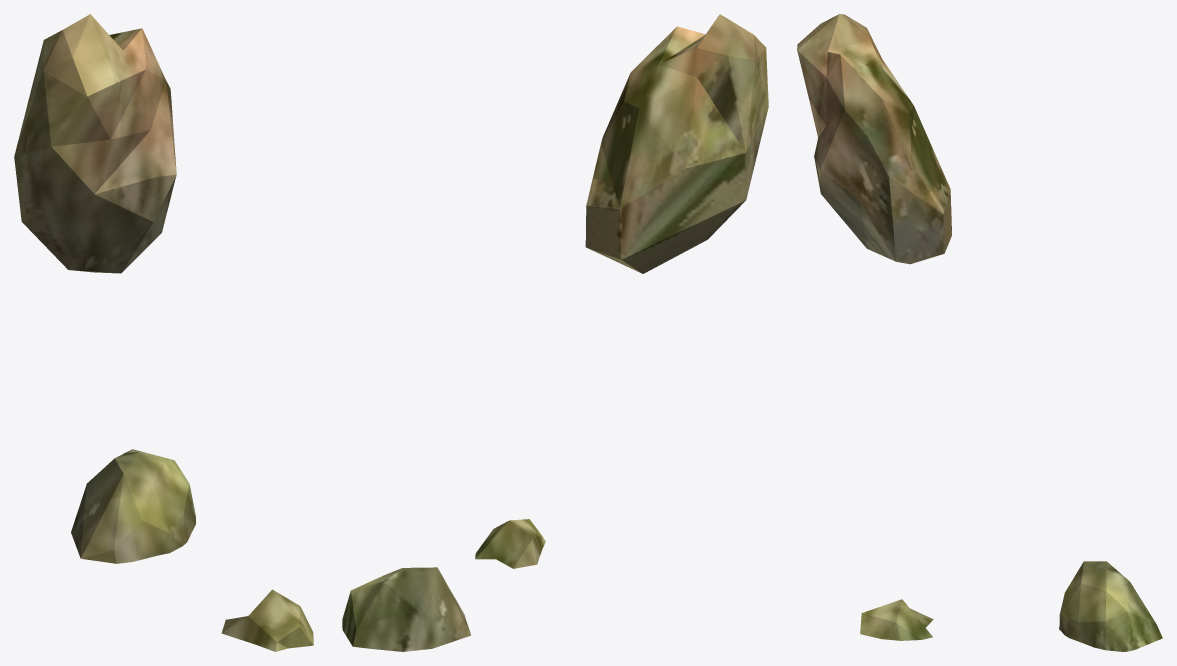
The picture shows the model from 3 angles, left to right: view 1: azimuth 30°, elevation 25°; view 2: azimuth 150°, elevation 25°; view 3: azimuth 270°, elevation 25°; orthographic projection. The views are drawn at different scales.
Bounding box in the file's own units: 1.06 × 2.09 × 1.3.
Materials: 1 (1 with a texture image).
